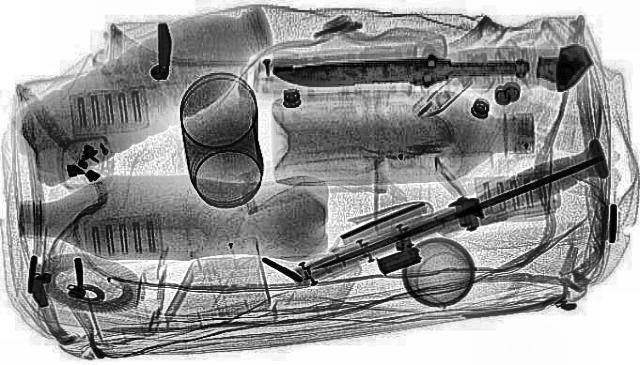Knife: (304, 146, 630, 280), (272, 50, 530, 90)
